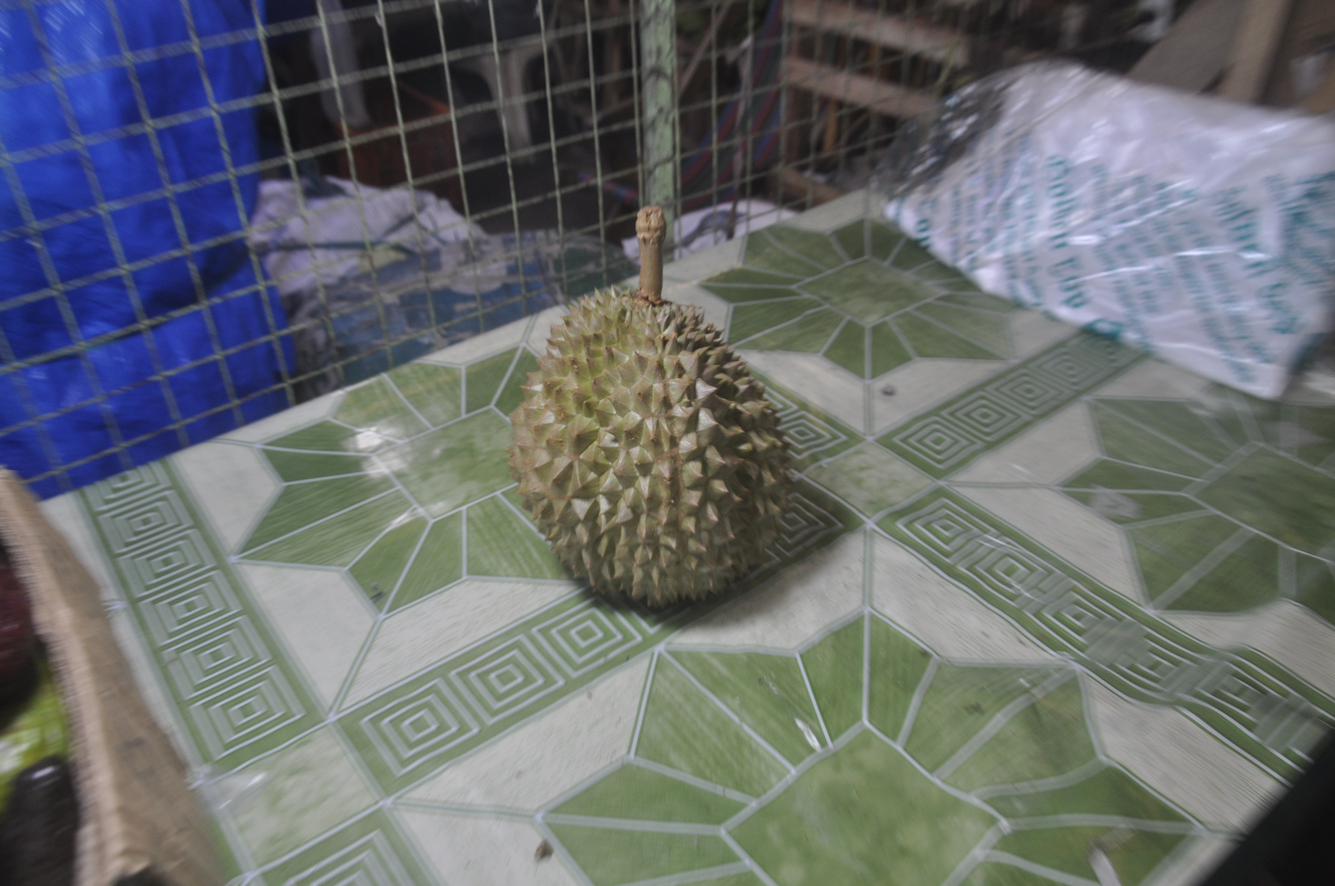mature: (507, 206, 793, 624)
